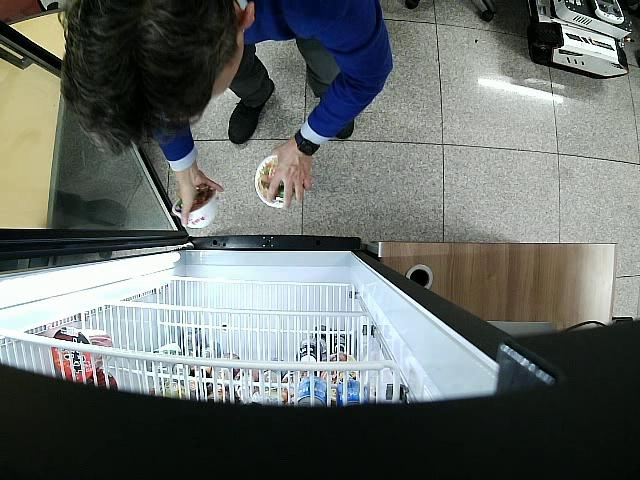00_hand: (266, 144, 308, 211), (177, 173, 226, 228)
09_yukGaeJang: (254, 156, 295, 209), (172, 186, 217, 229)
